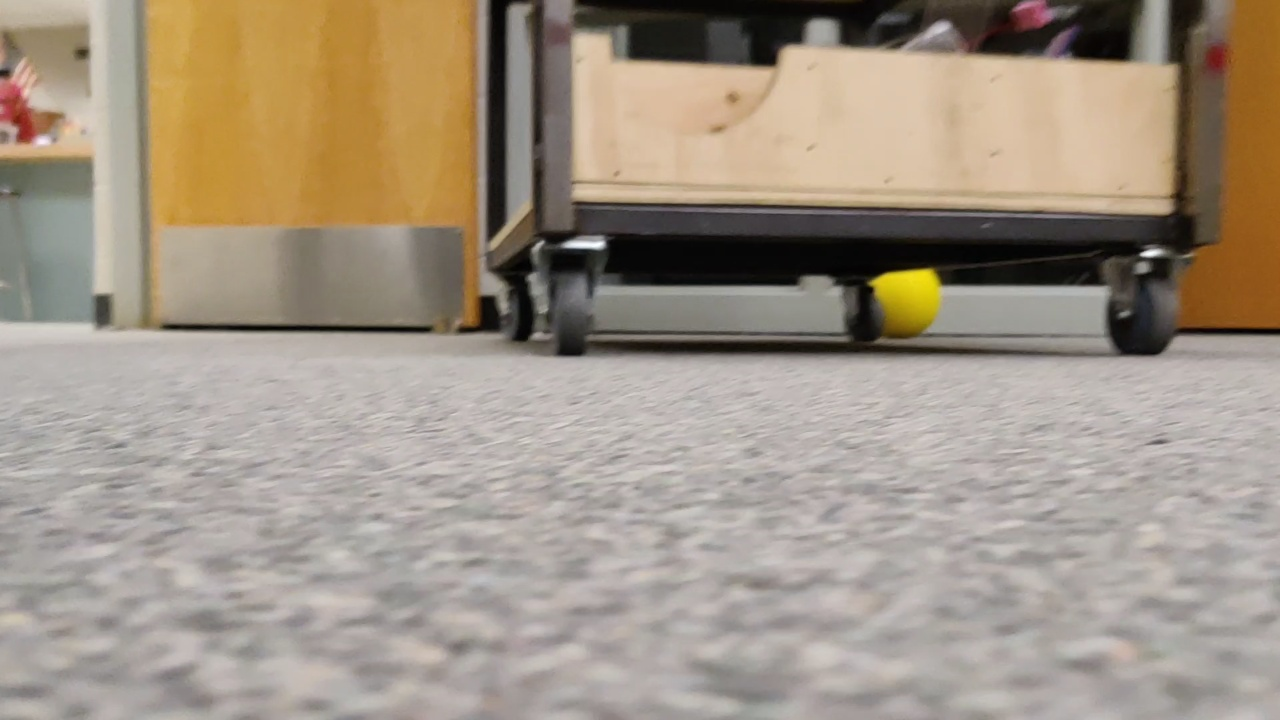Ball: (868, 269, 949, 337)
